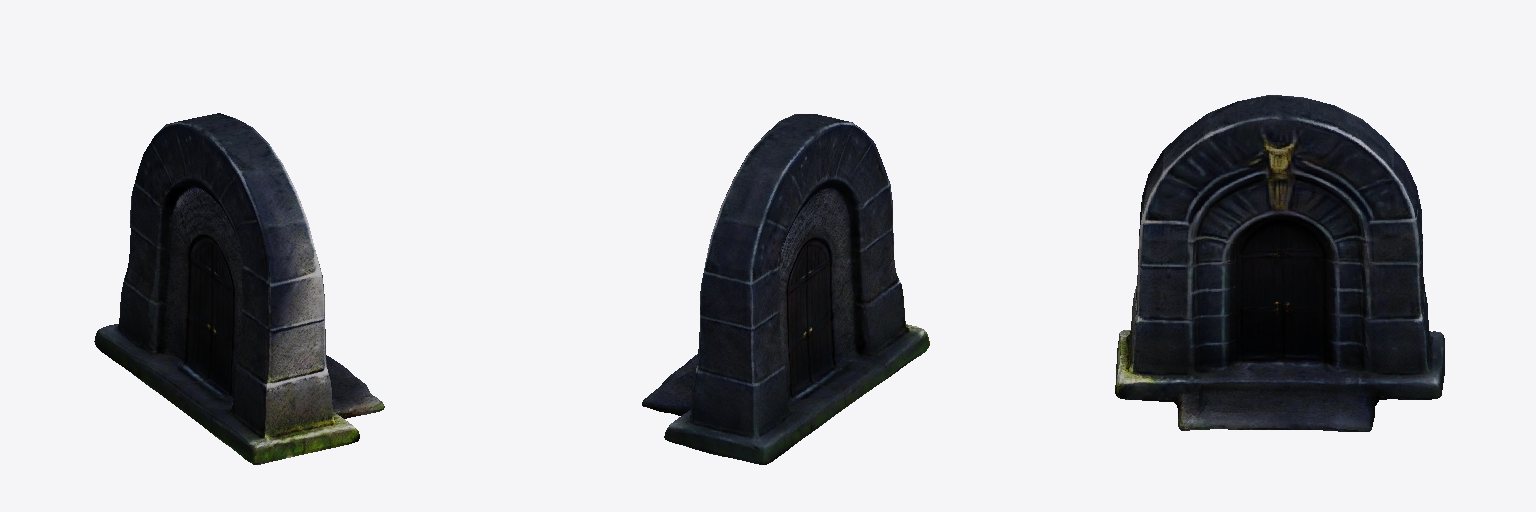
3 views of the same model, side by side, from view 1: azimuth 30°, elevation 25°; view 2: azimuth 150°, elevation 25°; view 3: azimuth 270°, elevation 25° (orthographic).
Visible parts, largest first — view 1: mesh; view 2: mesh; view 3: mesh.
Boxes of the visible parts, x1,y1,x2,y2 form: mesh: [94, 113, 384, 464]; mesh: [642, 114, 929, 464]; mesh: [1115, 95, 1444, 431].
Bounding box in the file's own units: 0.5764 × 0.9124 × 0.9971.
1 materials, 1 textured.